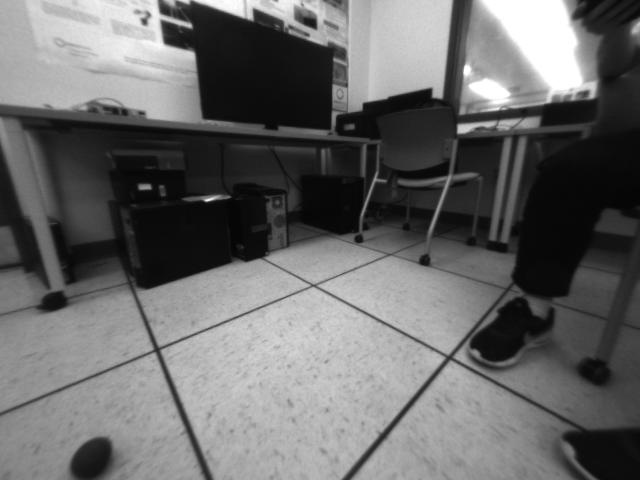dogtoy: (62, 429, 125, 480)
